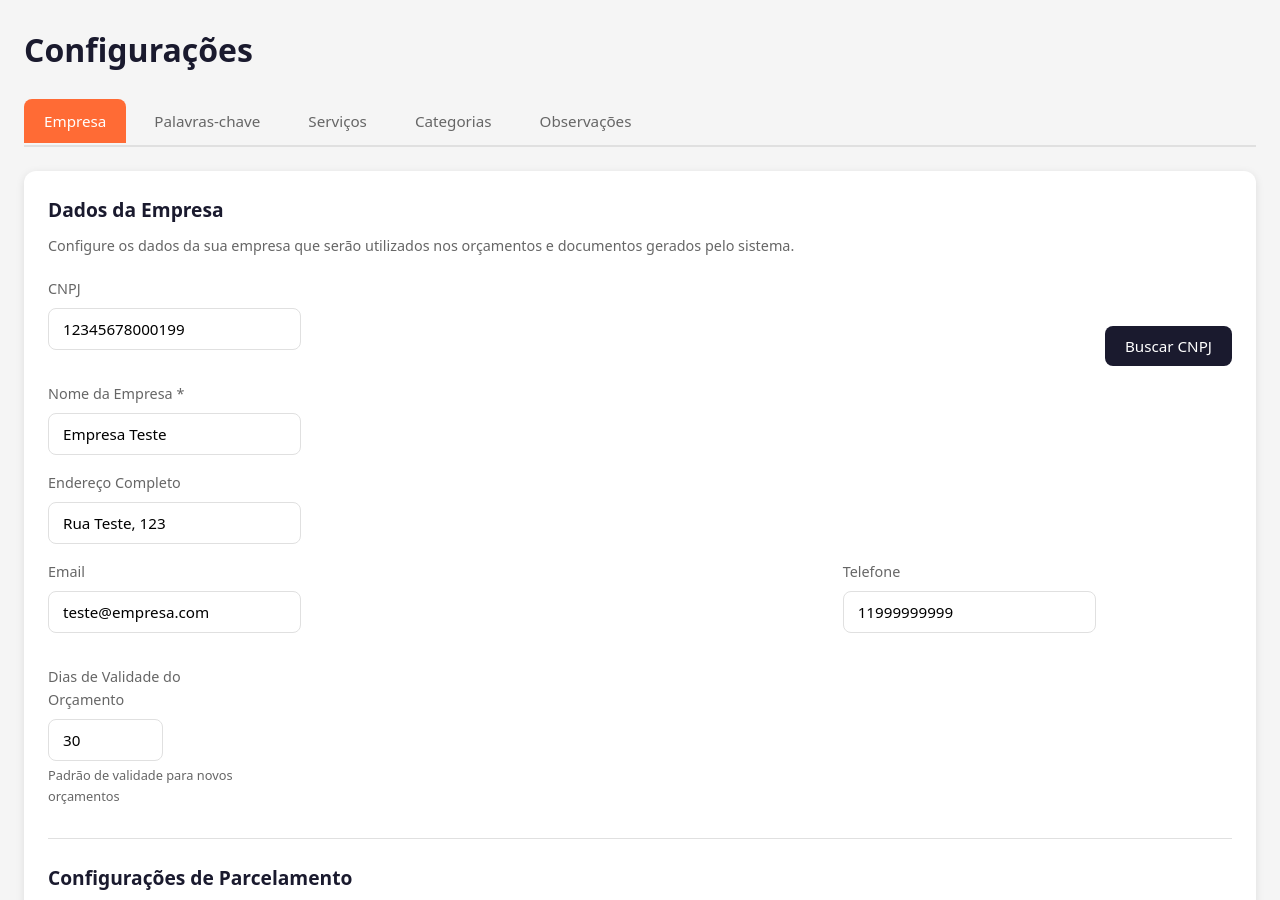
Configuracoes › Aba de Palavras-chave › deve mostrar estado vazio quando não houver palavras-chave
What coordinates should you click on to do the following:
click the button "Palavras-chave"
I would click on:
 (207, 121)
Its box is [134,99,280,143].
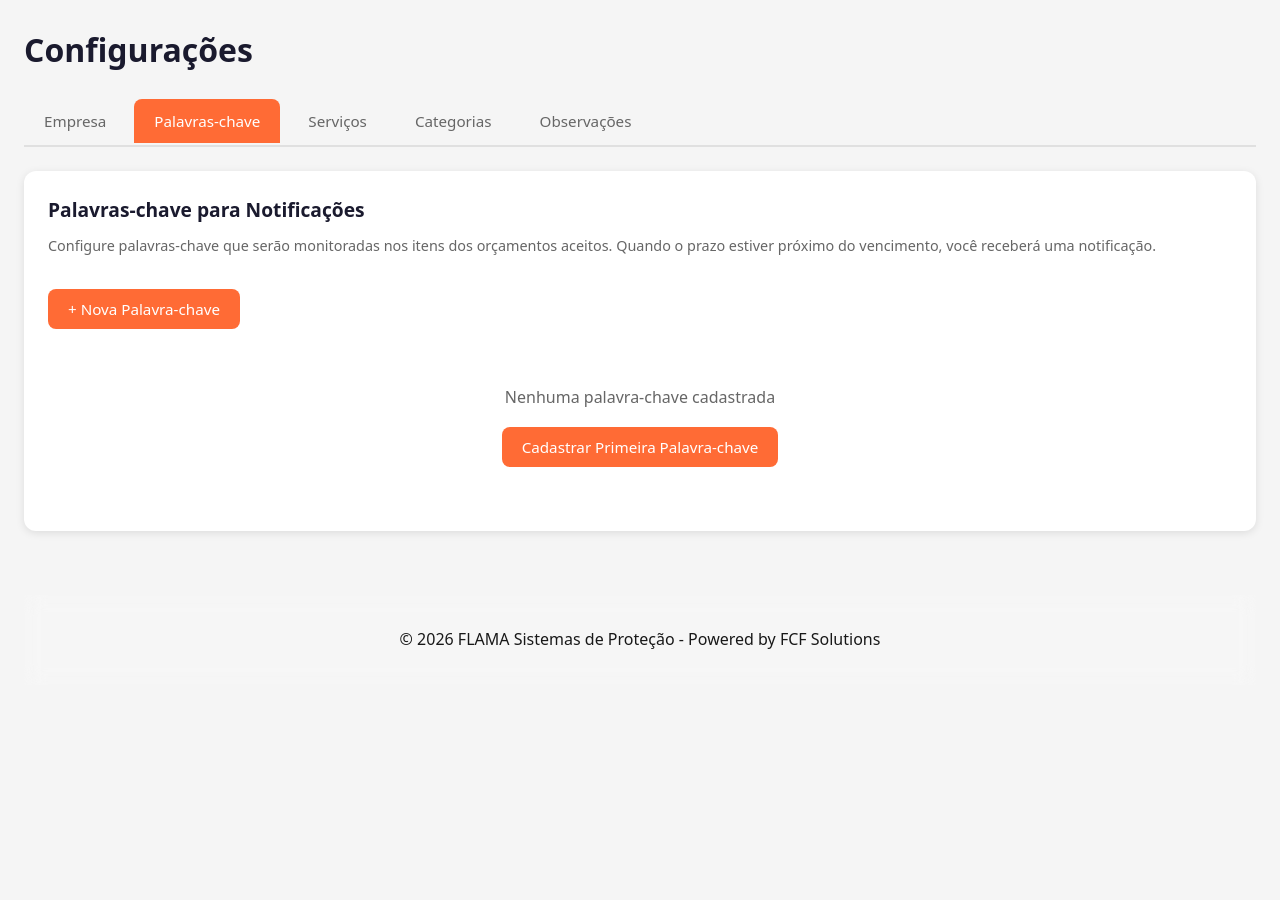
Now the text "Nenhuma palavra-chave cadastrada" is shown, box [505,386,775,408]
